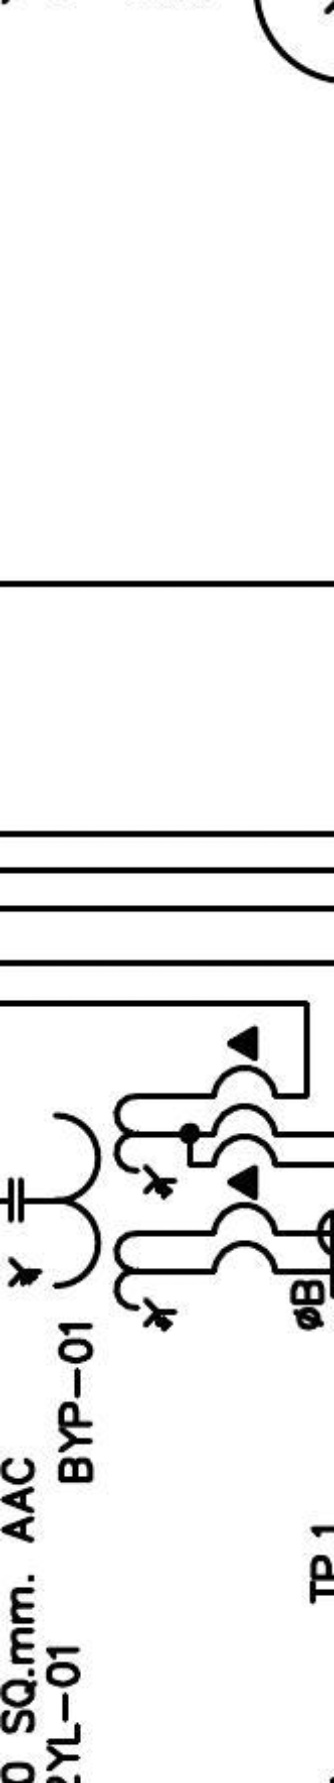115_cvt_3p: (7, 1092, 179, 1334)
